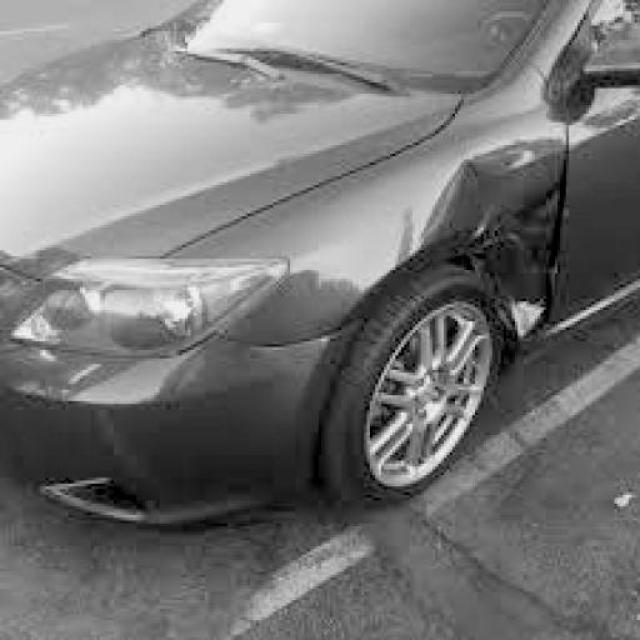car damage: (418, 142, 572, 339)
